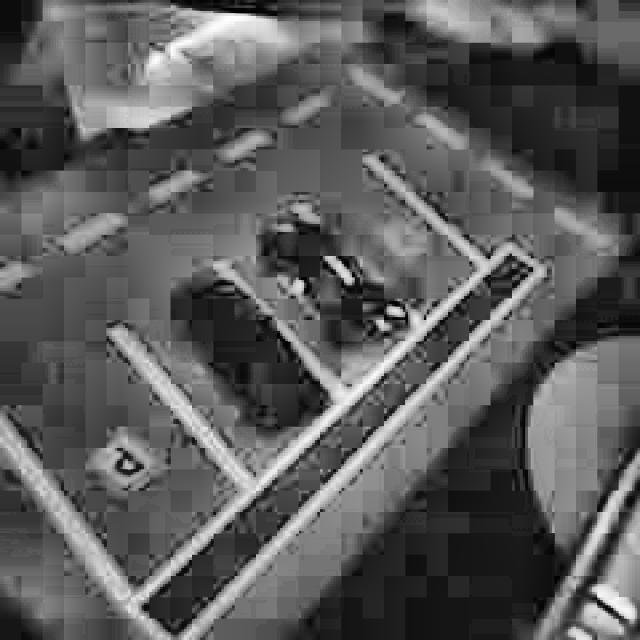car: (165, 261, 334, 438), (251, 206, 413, 362)
